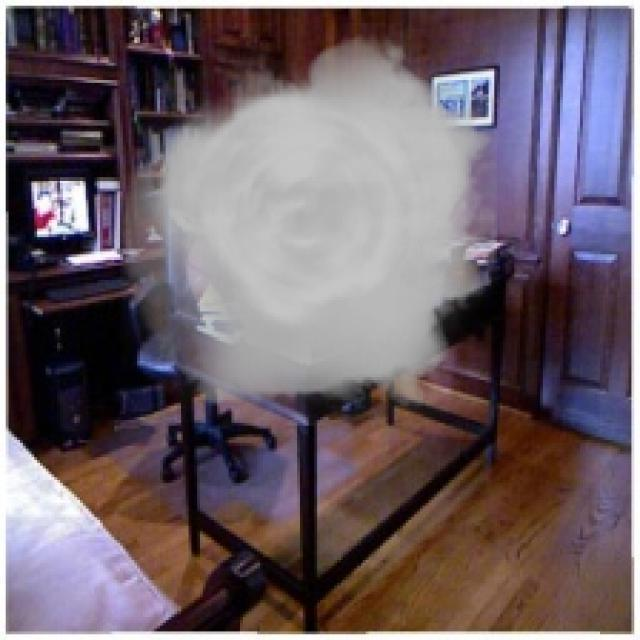Smoke: (120, 23, 497, 426)
